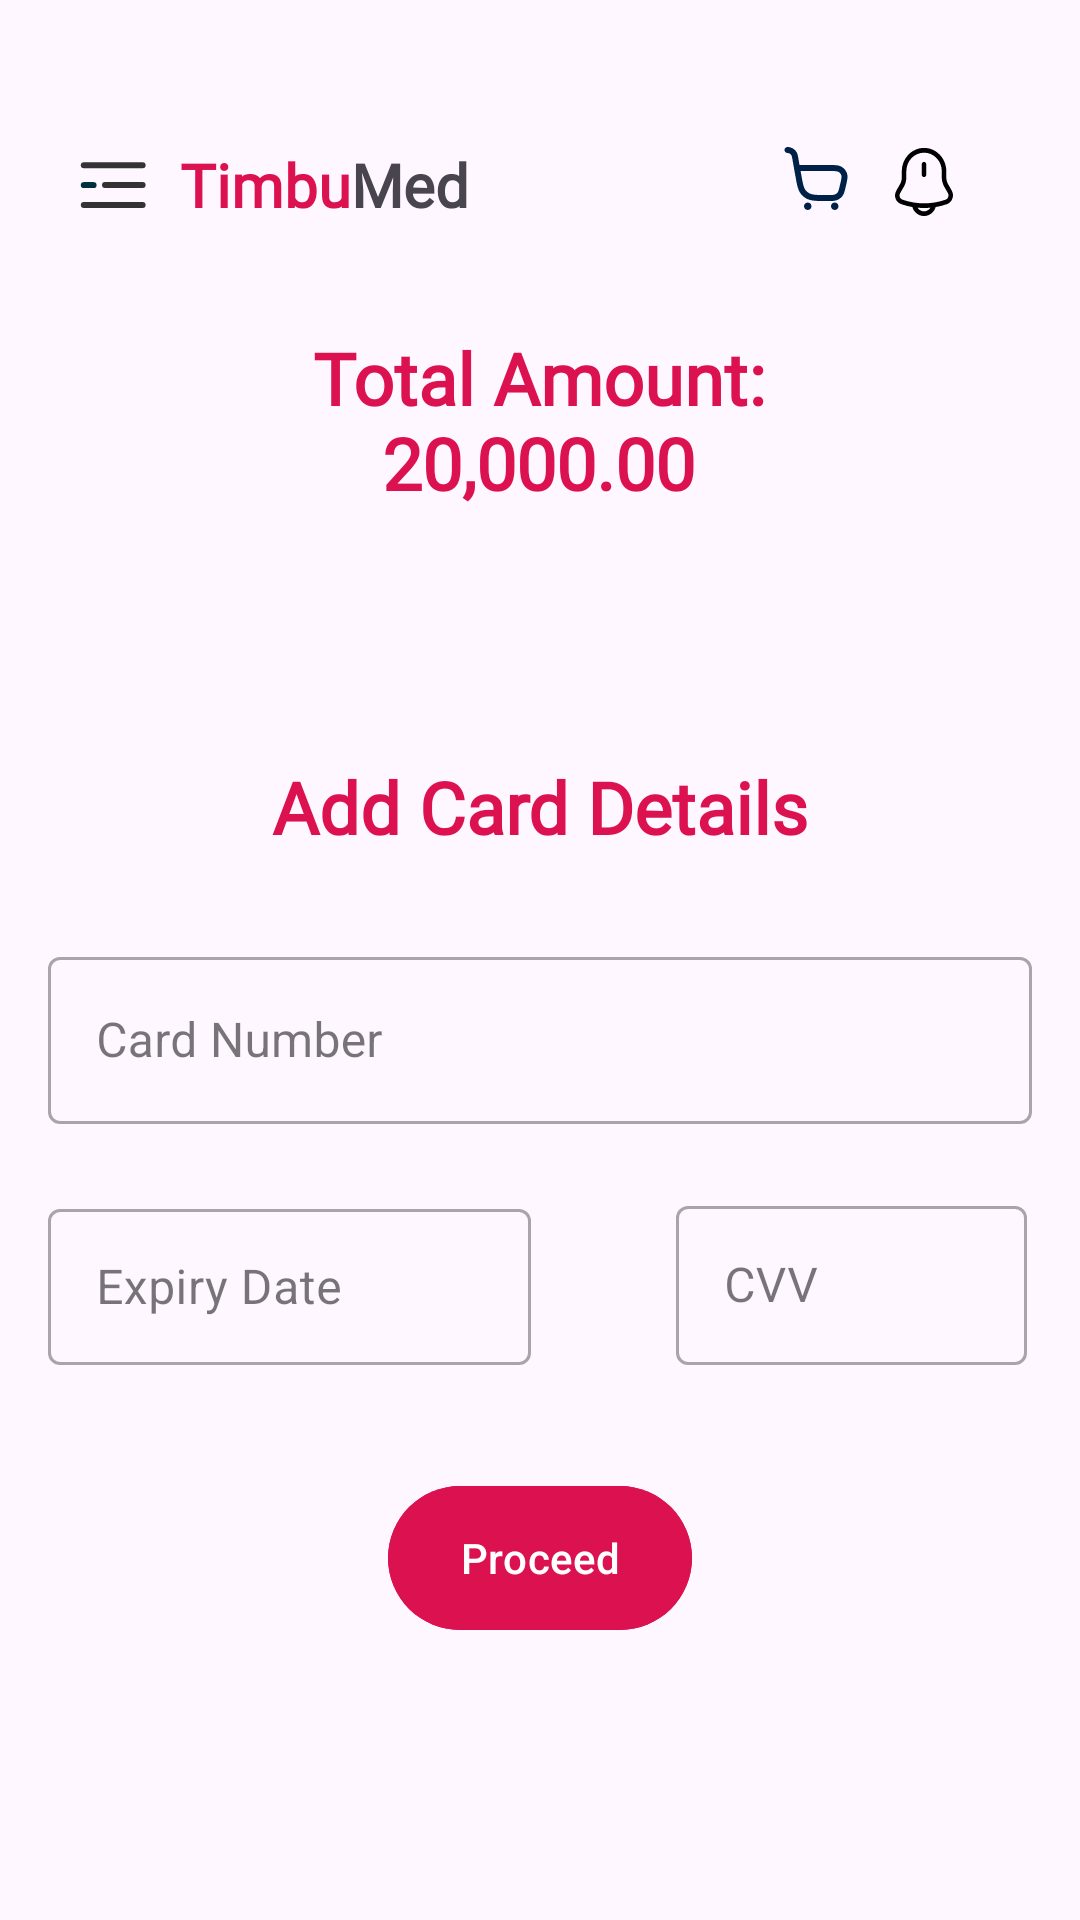

Screen size 1080px×1920px. Icon name, then its box in pixels as (x1, y1, x2, y2):
menu: (80, 162, 146, 208)
notification bing: (895, 148, 953, 216)
